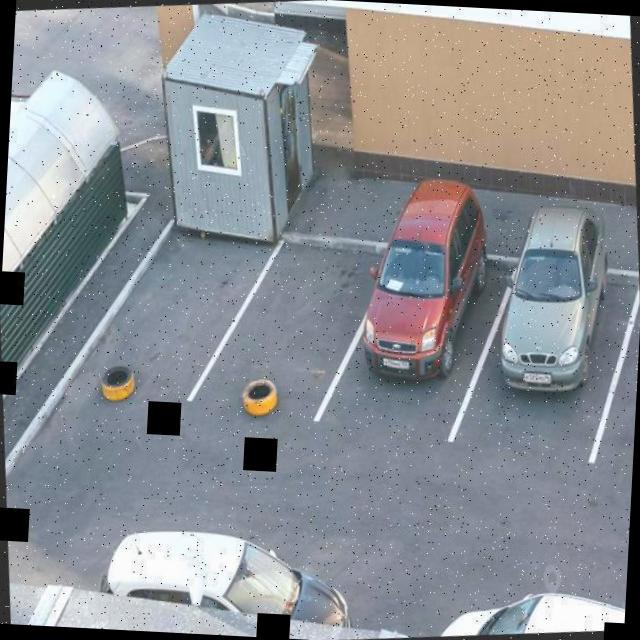car: (474, 214, 628, 453), (341, 212, 494, 427)
free: (204, 240, 360, 438), (86, 224, 232, 414)
